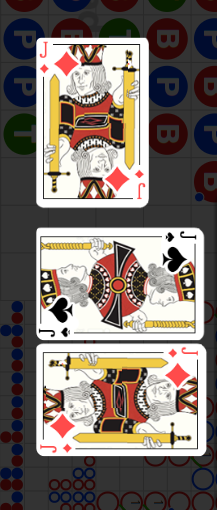7D: (167, 345, 201, 358)
JS: (38, 295, 85, 339), (159, 228, 205, 272)
